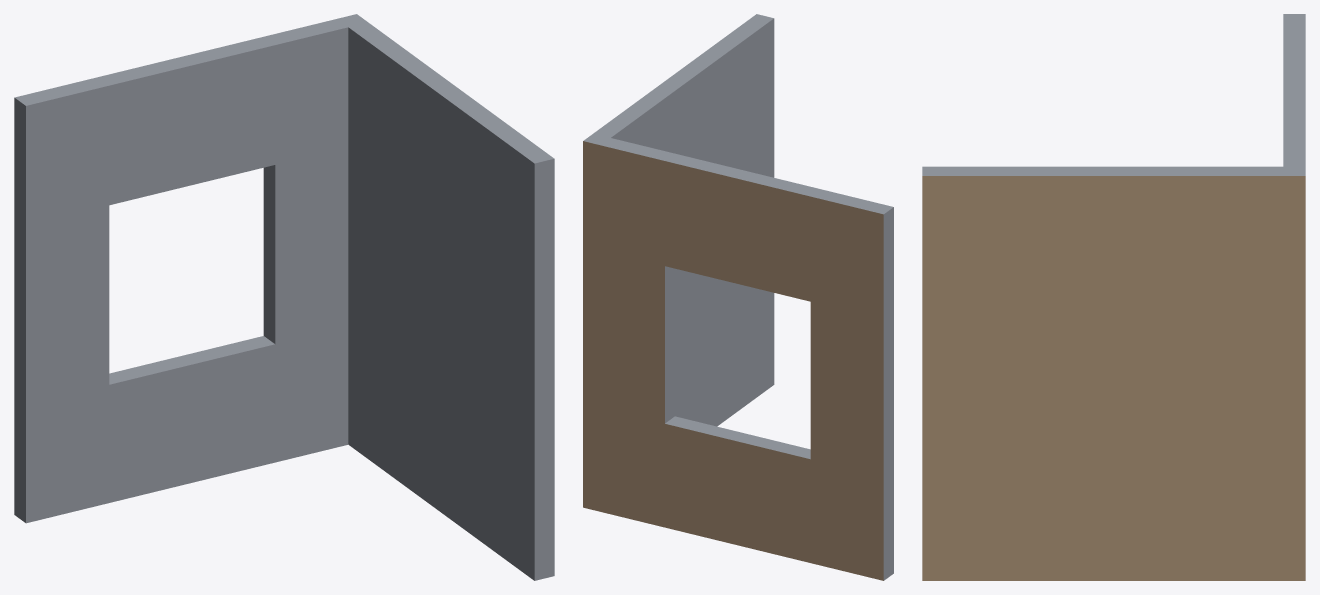
The model's file is Wall2_C6_10.fbx.
3 renders of one model, left to right at view 1: azimuth 30°, elevation 25°; view 2: azimuth 150°, elevation 25°; view 3: azimuth 270°, elevation 25°, orthographic. The views are drawn at different scales.
Parts seen in each view (by area): view 1: Wall2_C6_10; view 2: Wall2_C6_10; view 3: Wall2_C6_10.
Boxes of the visible parts, box(x1,y1,x2,y2) form: Wall2_C6_10: box(14, 14, 554, 580); Wall2_C6_10: box(583, 14, 893, 580); Wall2_C6_10: box(922, 14, 1305, 580).
Bounding box in the file's own units: 258 × 300 × 258.
